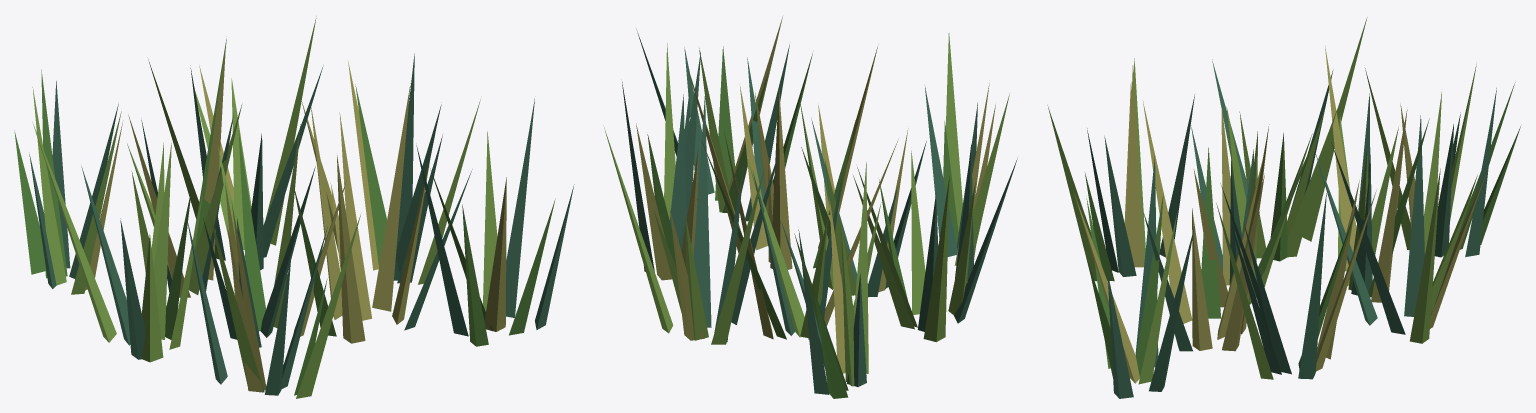
File: tall_grass_patch.fbx
The picture shows the model from 3 angles, left to right: view 1: azimuth 30°, elevation 25°; view 2: azimuth 150°, elevation 25°; view 3: azimuth 270°, elevation 25°; orthographic projection. The views are drawn at different scales.
Parts seen in each view (by area): view 1: tall_grass_patch; view 2: tall_grass_patch; view 3: tall_grass_patch.
Boxes of the visible parts, left/top/right/bottom form: tall_grass_patch: left=14, top=16, right=574, bottom=398; tall_grass_patch: left=604, top=16, right=1017, bottom=398; tall_grass_patch: left=1047, top=17, right=1520, bottom=398.
Size of the model in its own units: 2.19 by 1.09 by 2.23.
